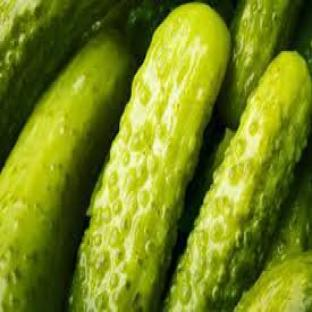Cucumber: (70, 4, 230, 311), (166, 53, 311, 310), (0, 31, 132, 311), (180, 128, 234, 235), (267, 145, 311, 265), (235, 253, 311, 311)
